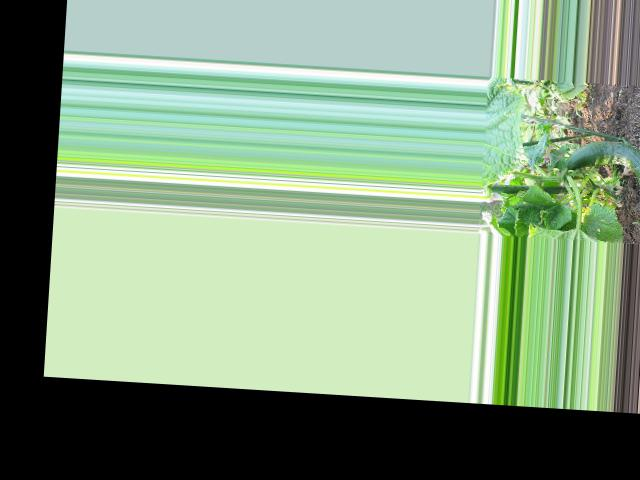cucumber: (562, 137, 640, 202)
